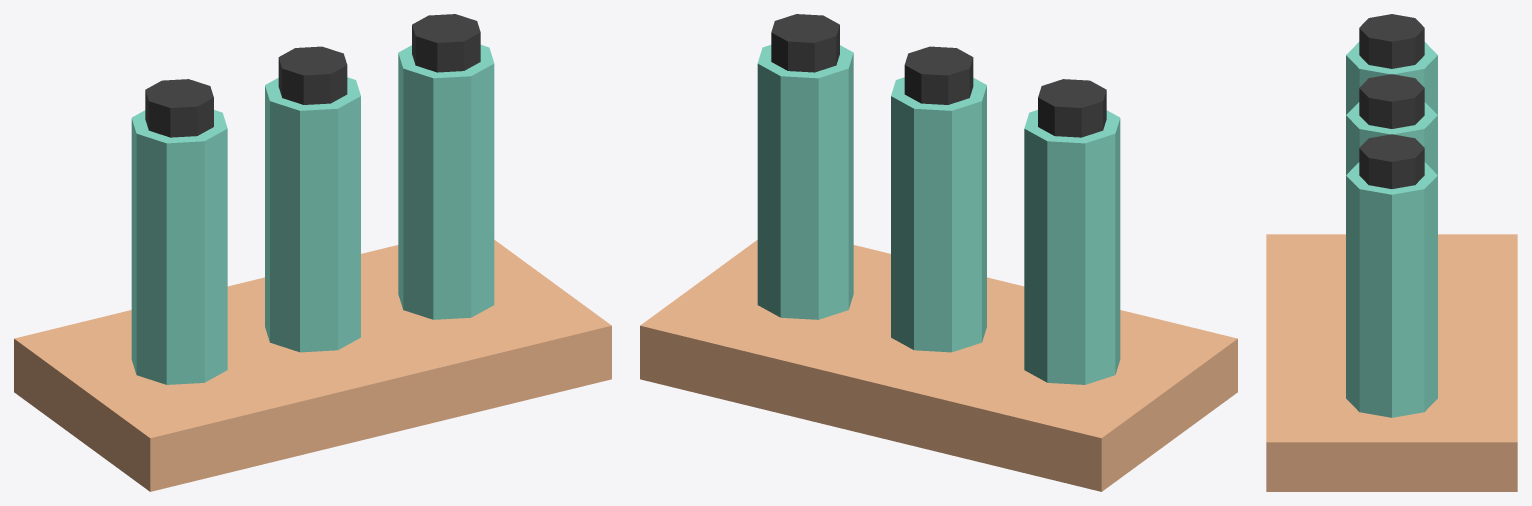
3 views of the same model, side by side, from view 1: azimuth 30°, elevation 25°; view 2: azimuth 150°, elevation 25°; view 3: azimuth 270°, elevation 25° (orthographic). The views are drawn at different scales.
Parts seen in each view (by area): view 1: Tray, Bottle.002, Bottle, Bottle.001, Cap.001, Cap, Cap.002; view 2: Tray, Bottle.002, Bottle, Bottle.001, Cap.001, Cap, Cap.002; view 3: Tray, Bottle.002, Cap, Cap.001, Cap.002, Bottle, Bottle.001.
Part boxes in pixels (x1,y1,x2,y2): Tray: (14, 240, 611, 491); Bottle.002: (398, 45, 494, 319); Bottle: (131, 110, 227, 384); Bottle.001: (265, 77, 360, 352); Cap.001: (278, 46, 347, 104); Cap: (145, 79, 213, 137); Cap.002: (412, 14, 480, 72); Tray: (640, 240, 1237, 491); Bottle.002: (757, 45, 853, 319); Bottle: (1024, 110, 1120, 384); Bottle.001: (891, 77, 986, 352); Cap.001: (904, 46, 973, 104); Cap: (1038, 79, 1106, 137); Cap.002: (771, 14, 839, 72); Tray: (1266, 234, 1517, 491); Bottle.002: (1346, 162, 1437, 417); Cap: (1359, 14, 1424, 68); Cap.001: (1359, 74, 1424, 128); Cap.002: (1359, 134, 1424, 188); Bottle: (1346, 42, 1437, 114); Bottle.001: (1346, 102, 1437, 174).
Size of the model in its own units: 45 by 30.25 by 23.
